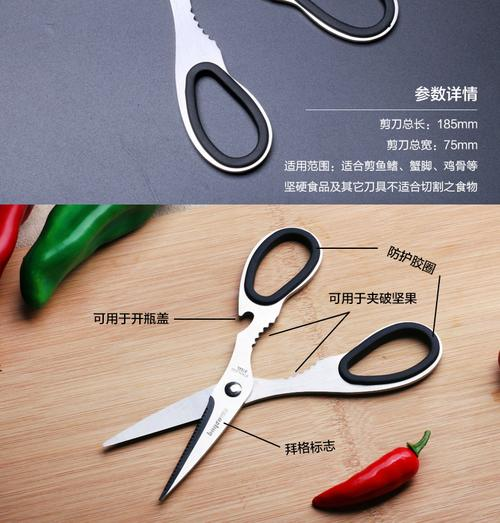scissor: (98, 225, 444, 506)
